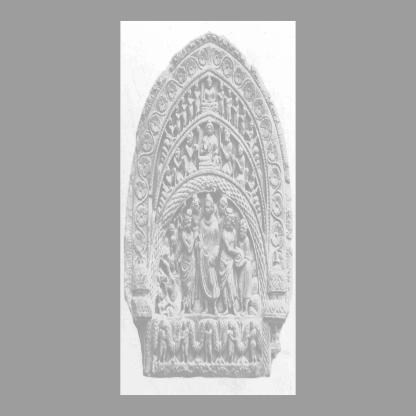buddha-sitting: (198, 120, 220, 170), (201, 74, 219, 112)
buddha-standing: (196, 193, 220, 315)
